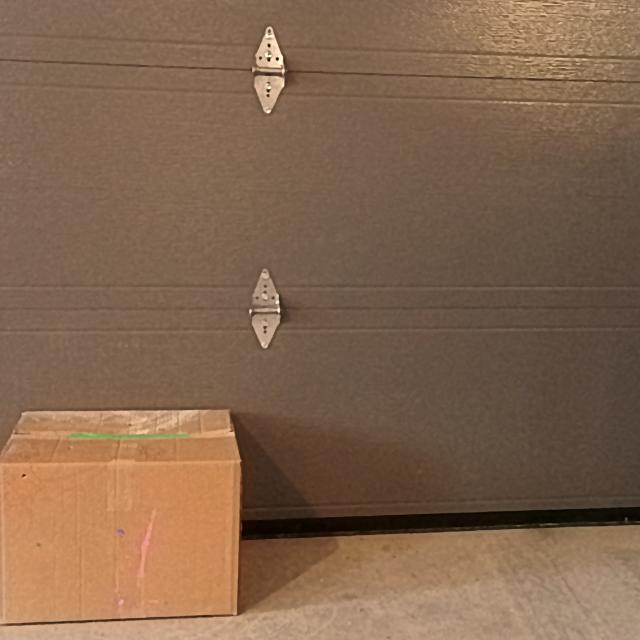box: (0, 462, 240, 618)
